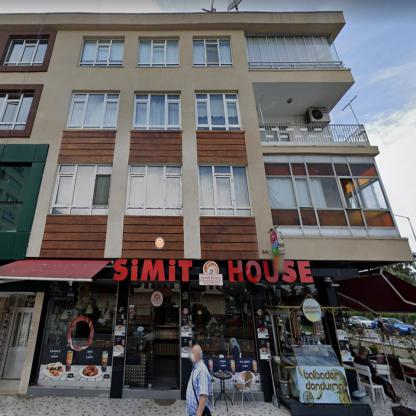door: (1, 306, 34, 378)
window: (267, 176, 390, 209), (245, 34, 340, 68), (50, 164, 112, 215), (199, 164, 252, 216), (127, 164, 182, 214), (1, 162, 32, 230), (66, 90, 120, 128), (132, 91, 180, 129), (196, 92, 240, 130), (78, 36, 124, 65), (1, 90, 35, 129), (3, 38, 50, 66), (137, 38, 179, 67), (193, 36, 233, 66)
